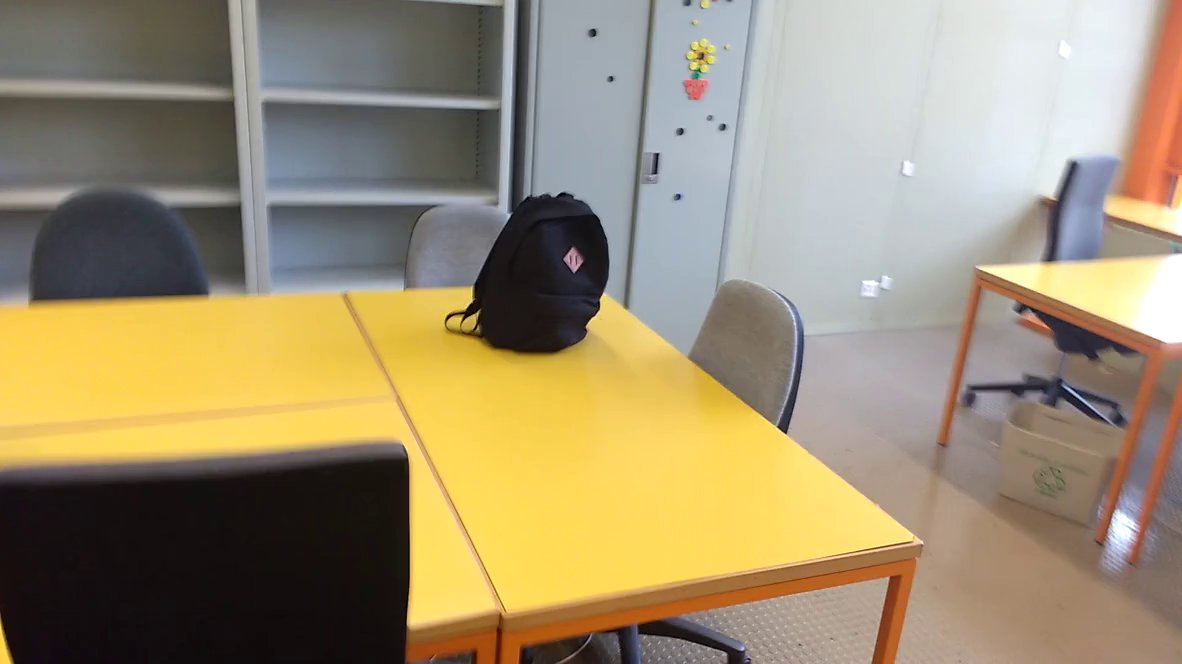bag: (440, 185, 616, 365)
box: (989, 399, 1135, 537)
chair: (1, 437, 416, 664), (988, 148, 1150, 453), (21, 175, 238, 325), (665, 262, 817, 459), (391, 195, 538, 306)
